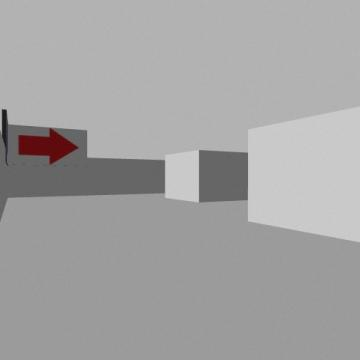red_right: (19, 128, 78, 164)
